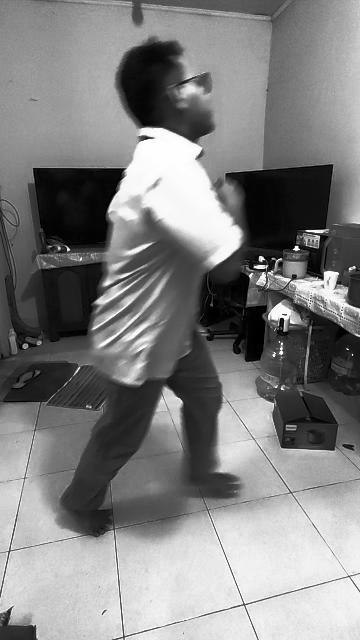berlari: (60, 34, 250, 538)
